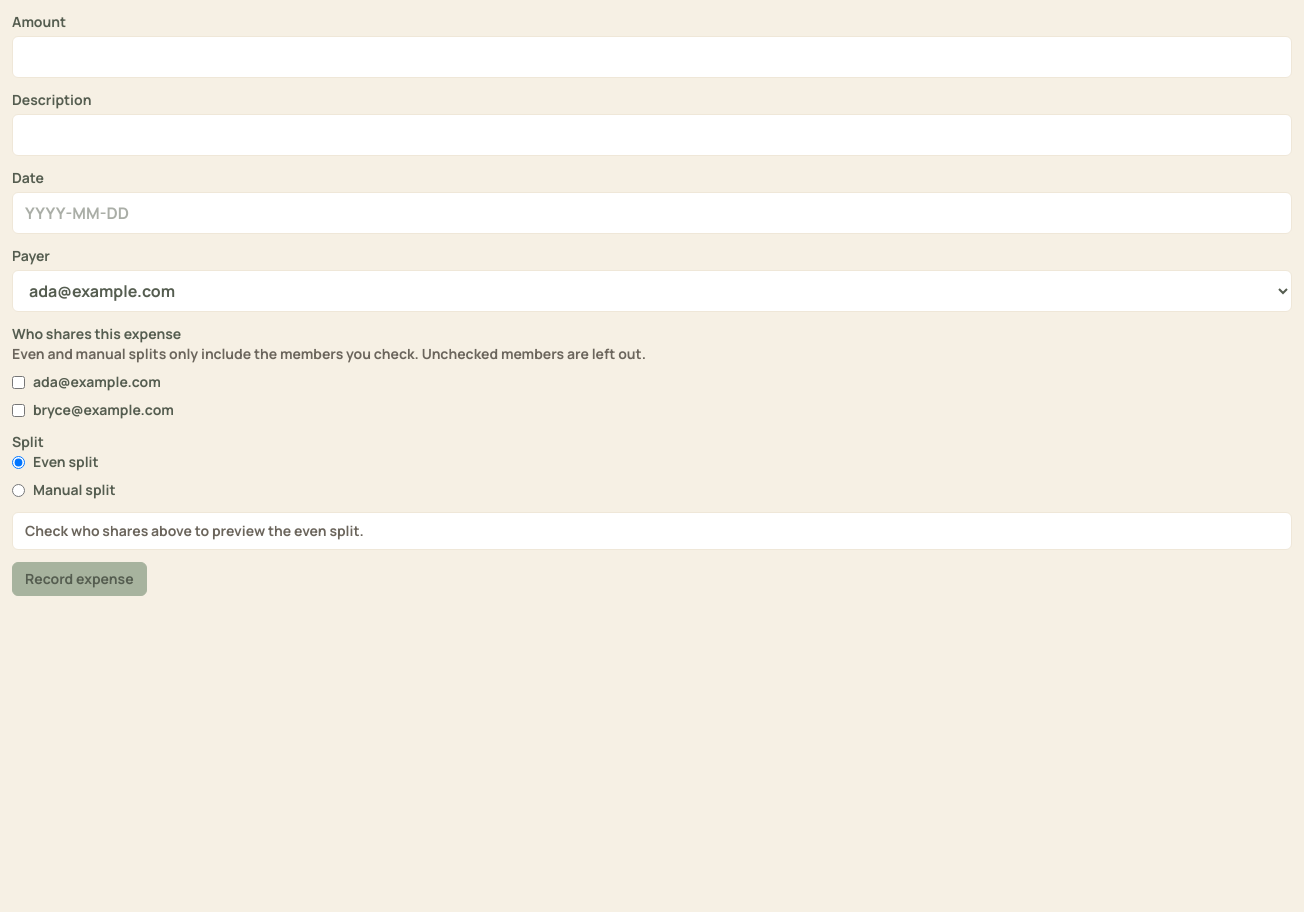
Scenario: ExpenseForm › explains that leftover manual share goes to the payer
Click the radio button labelled "Manual split".
click(18, 490)  # box [12,484,25,496]
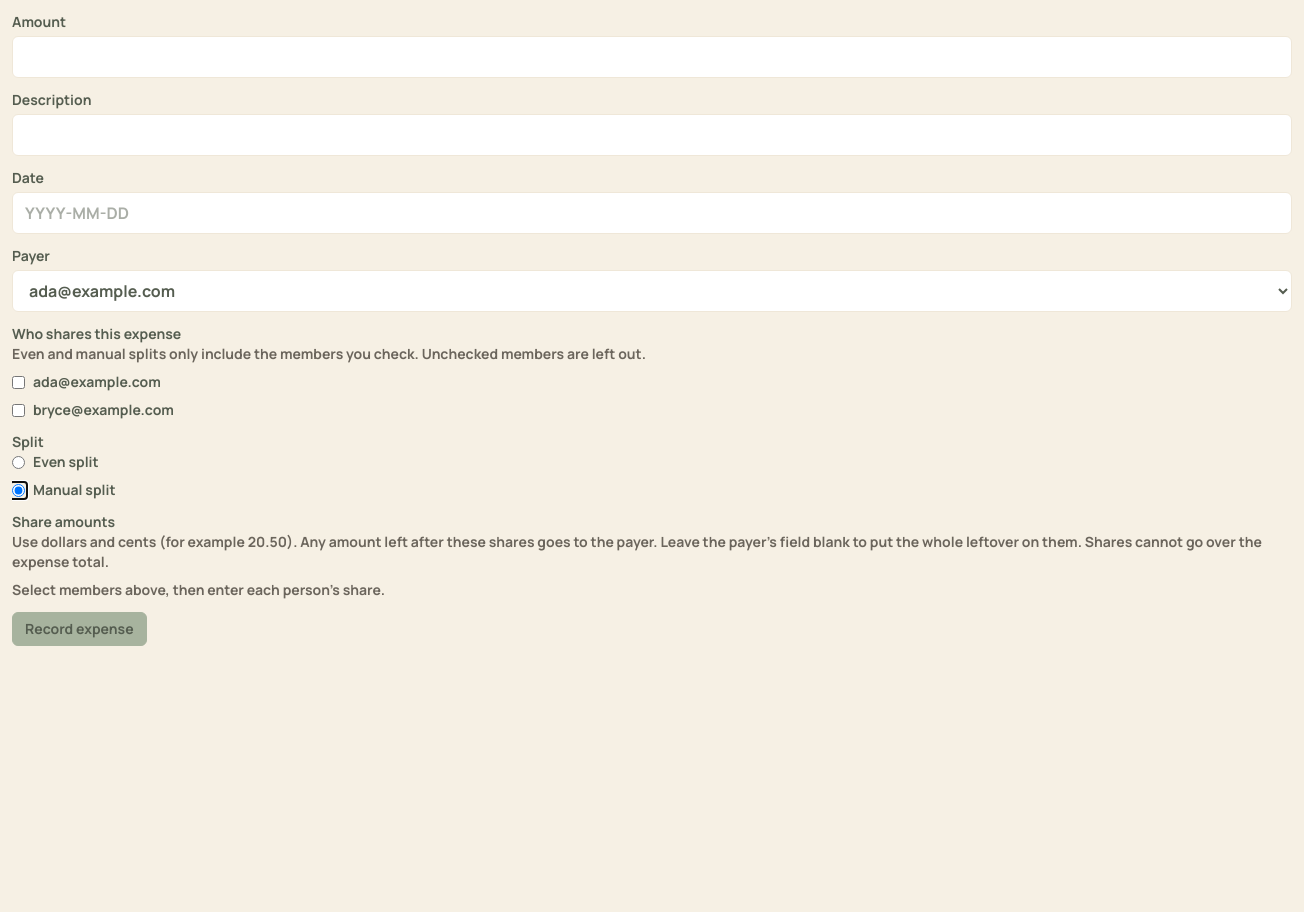
Check: the text "left after these shares goes to the payer" is shown, box [12,532,1262,571]
